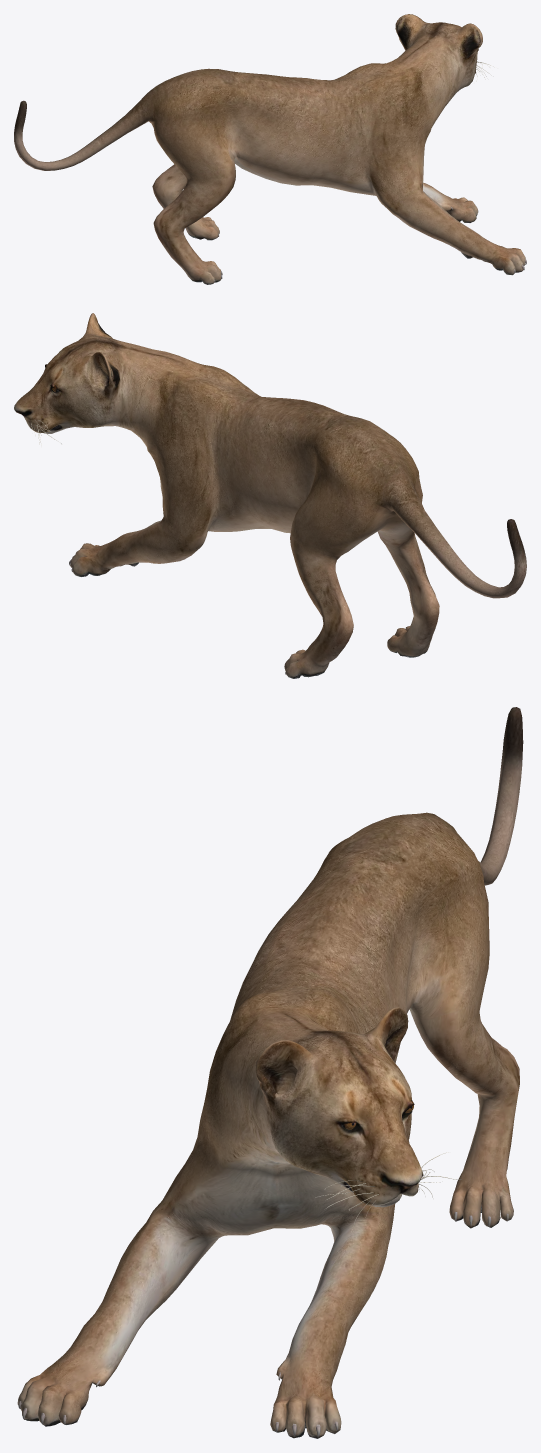
The model's file is leao.glb.
3 renders of one model, top to bottom at view 1: azimuth 30°, elevation 25°; view 2: azimuth 150°, elevation 25°; view 3: azimuth 270°, elevation 25°, orthographic. The views are drawn at different scales.
Visible parts, largest first — view 1: Lioness.001_applied_clean_M_Lioness_0; view 2: Lioness.001_applied_clean_M_Lioness_0; view 3: Lioness.001_applied_clean_M_Lioness_0.
Part boxes in pixels (x1=…): Lioness.001_applied_clean_M_Lioness_0: x1=14, y1=14, x2=526, y2=284; Lioness.001_applied_clean_M_Lioness_0: x1=14, y1=313, x2=526, y2=678; Lioness.001_applied_clean_M_Lioness_0: x1=17, y1=707, x2=523, y2=1438.
Size of the model in its own units: 2.41 by 1.04 by 1.2.
Materials: 1 (1 with a texture image).
